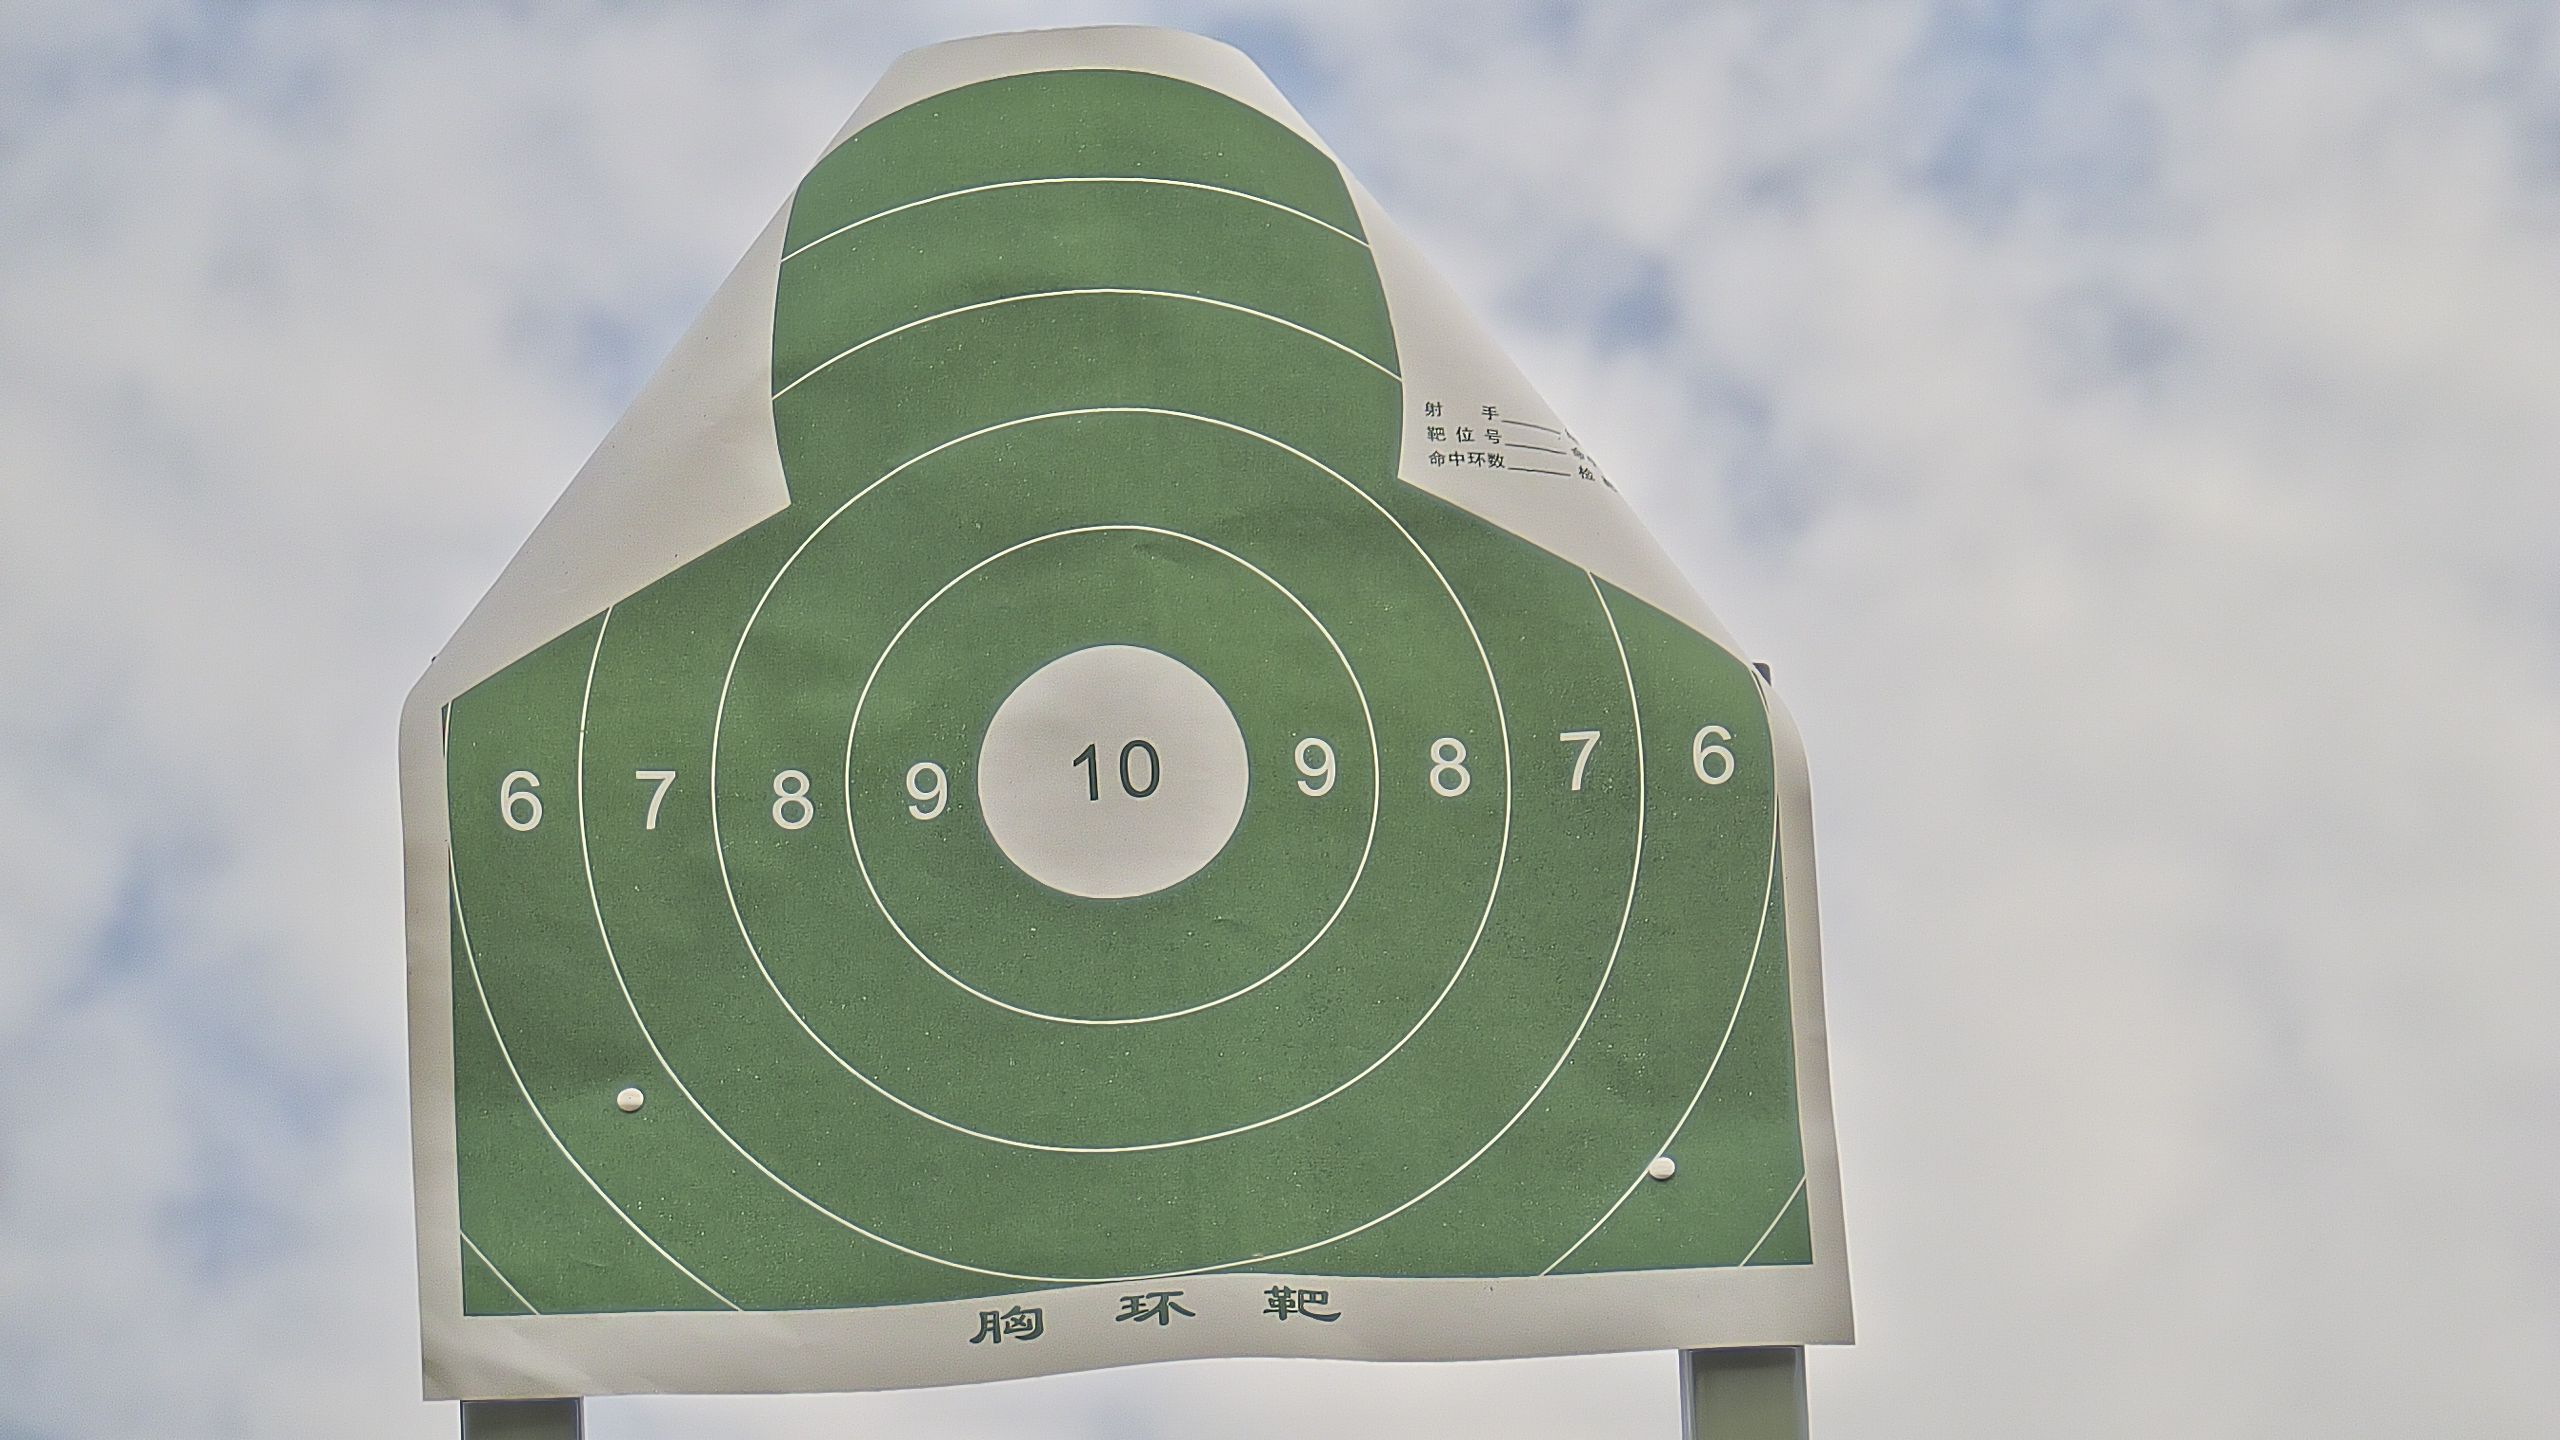kernel: (1104, 768, 1111, 774)
target: (445, 70, 1815, 1317)
ten: (976, 642, 1248, 900)
